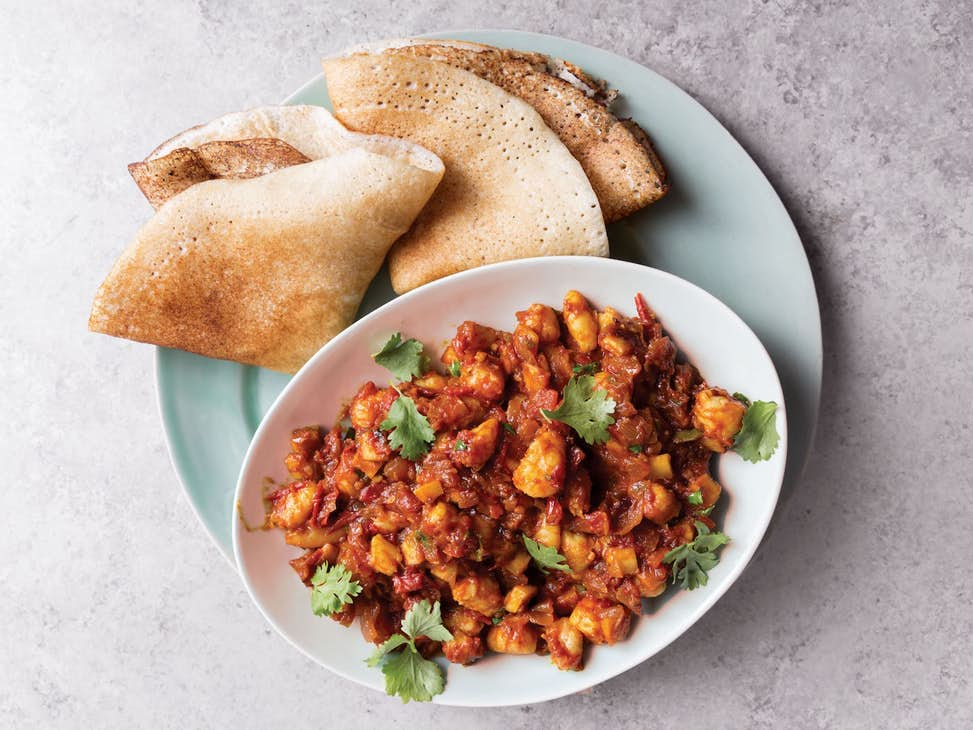dosa: (84, 38, 675, 377)
